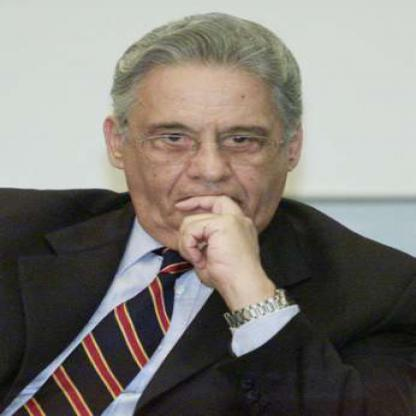face: (124, 32, 295, 250)
